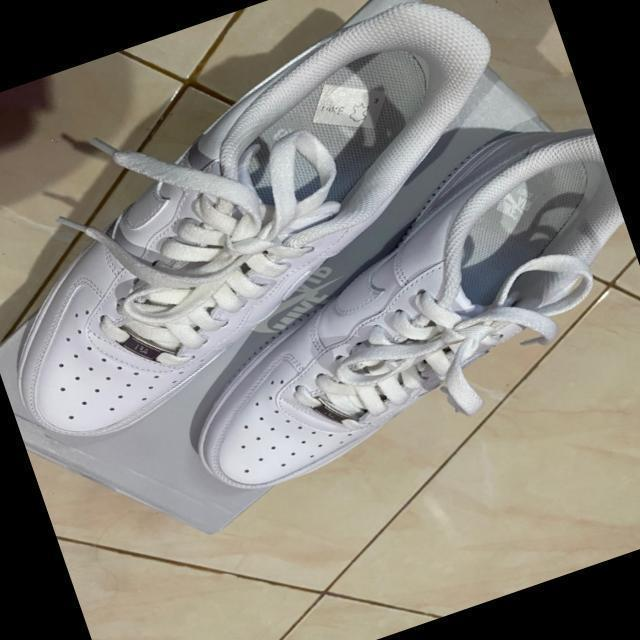nike original air force: (0, 0, 572, 461), (110, 101, 640, 517)
